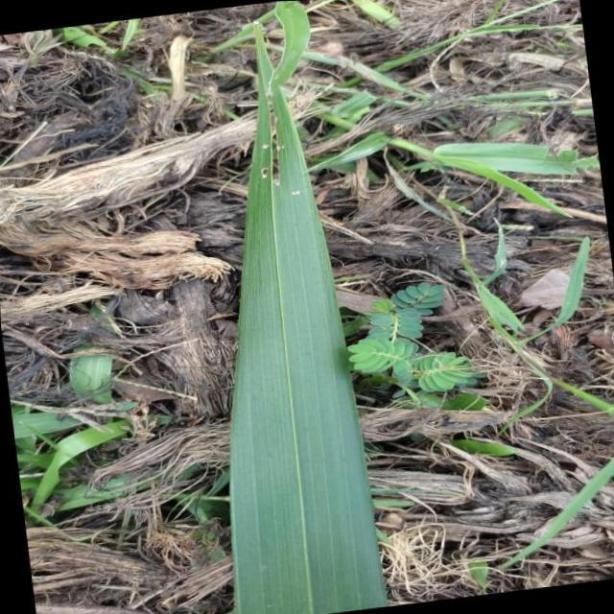Boron: (228, 7, 391, 614)
